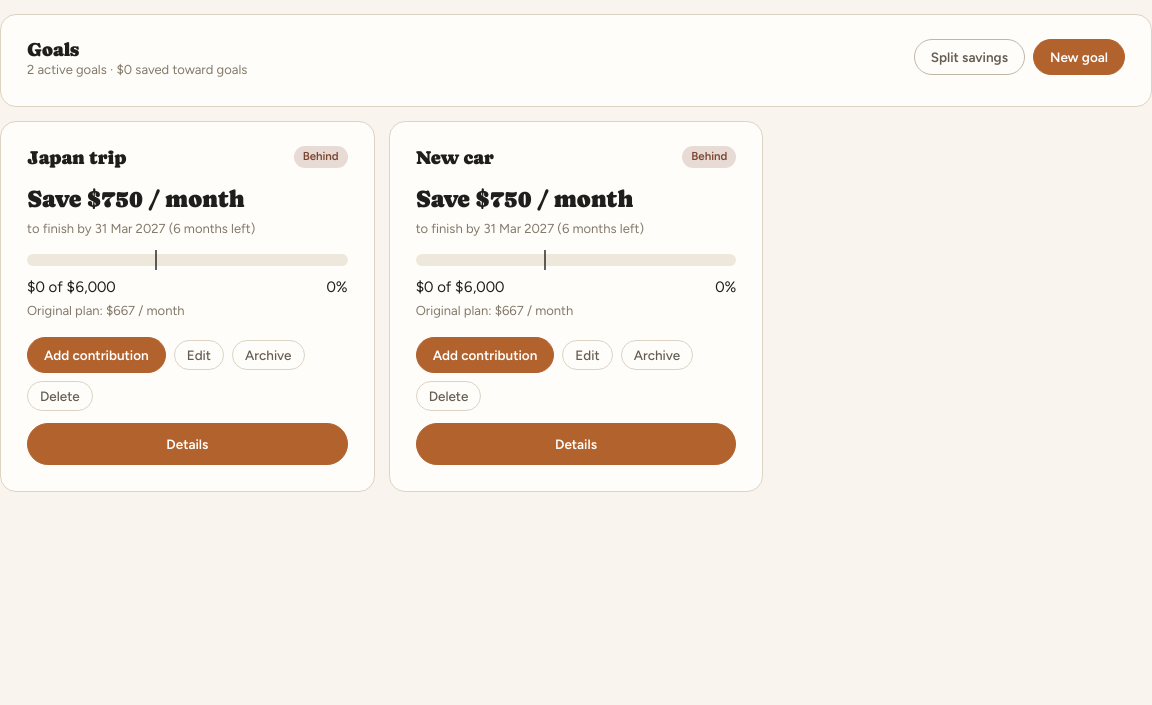
Test: Split savings › prefills the total from the selected month's Unallocated
Click the button "Split savings".
click(969, 57)  # box [914,39,1025,75]
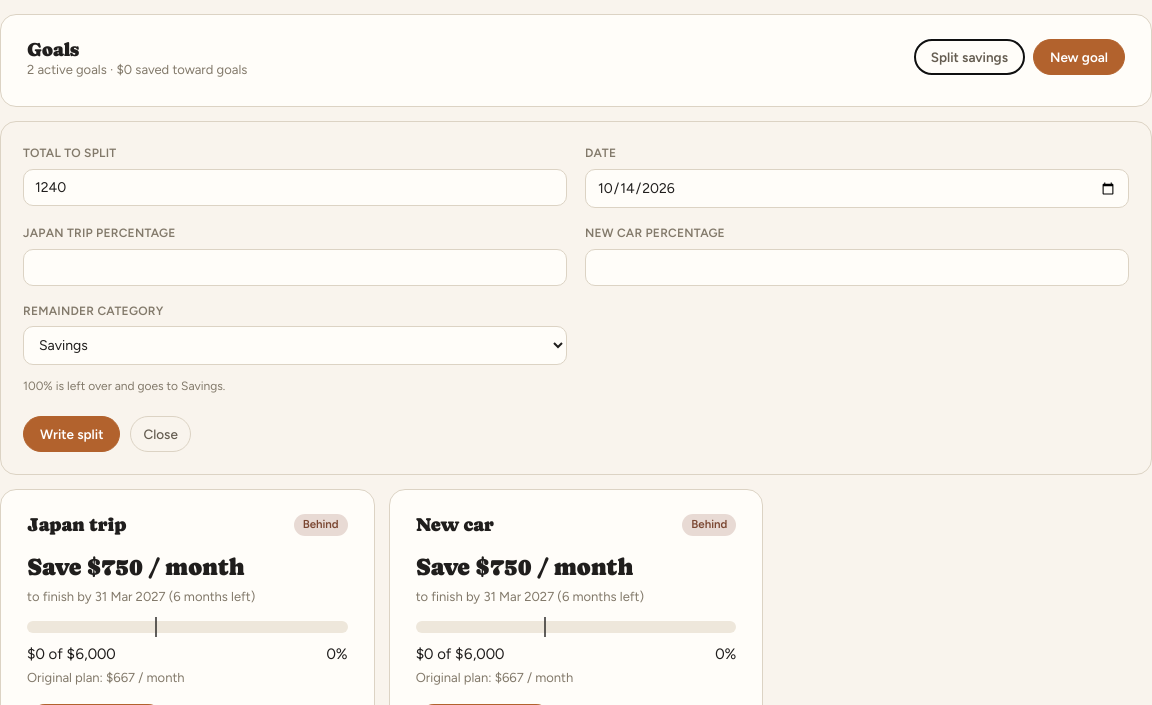
Now the number field labelled "Total to split" holds "1240", box [23,169,567,206]
